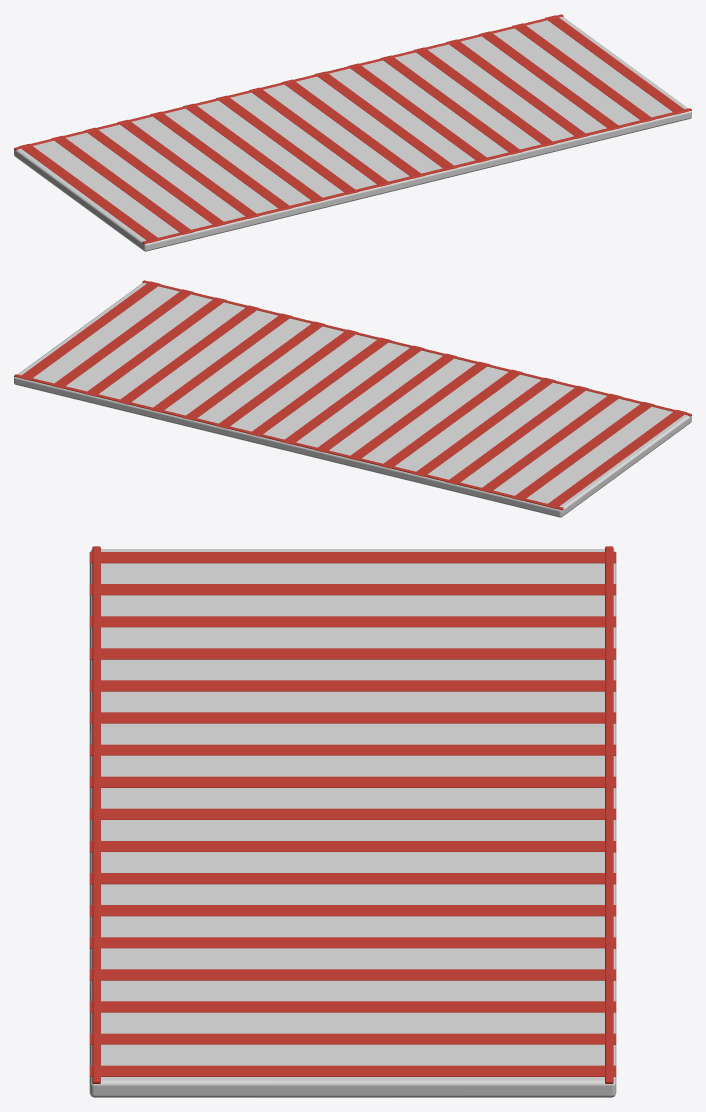
Rendered from trolley-towel-light.glb.
3 views of the same model, one above another, from view 1: azimuth 30°, elevation 25°; view 2: azimuth 150°, elevation 25°; view 3: azimuth 270°, elevation 25° (orthographic). The views are drawn at different scales.
Parts seen in each view (by area): view 1: linen, red; view 2: linen, red; view 3: linen, red.
Boxes of the visible parts, x1,y1,x2,y2 form: linen: (14,17,691,251); red: (14,14,691,244); linen: (14,283,691,517); red: (14,280,691,510); linen: (89,549,616,1097); red: (89,546,616,1083).
Size of the model in its own units: 10 by 0.1625 by 4.16.
